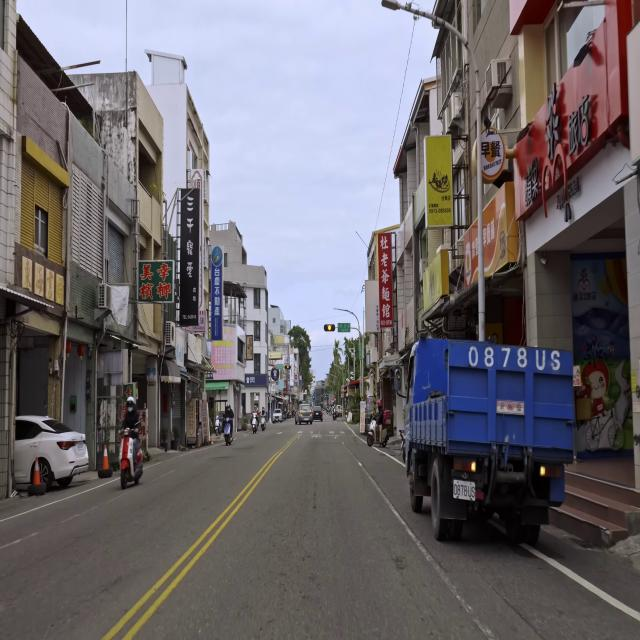yellow light: (324, 324, 336, 332), (284, 365, 291, 369)
